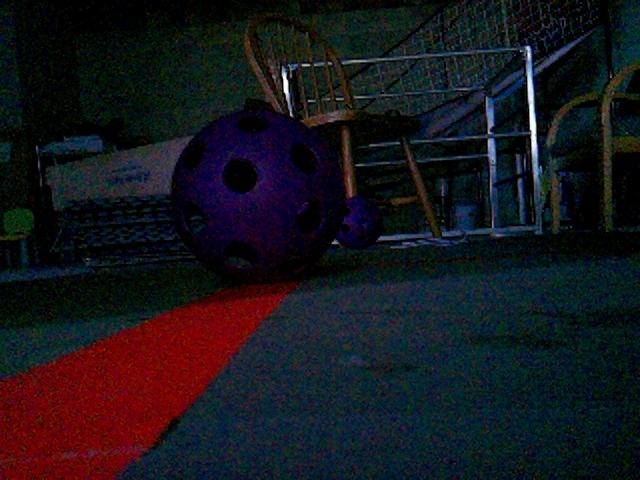Purple: (169, 102, 345, 284), (334, 194, 384, 250)
